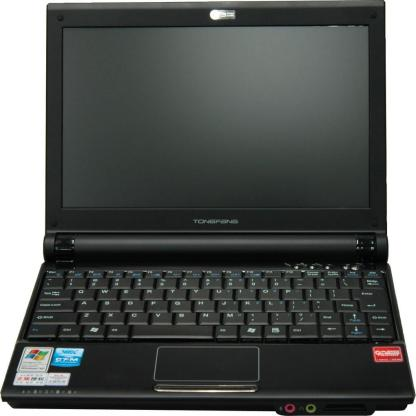board: (0, 2, 416, 416)
